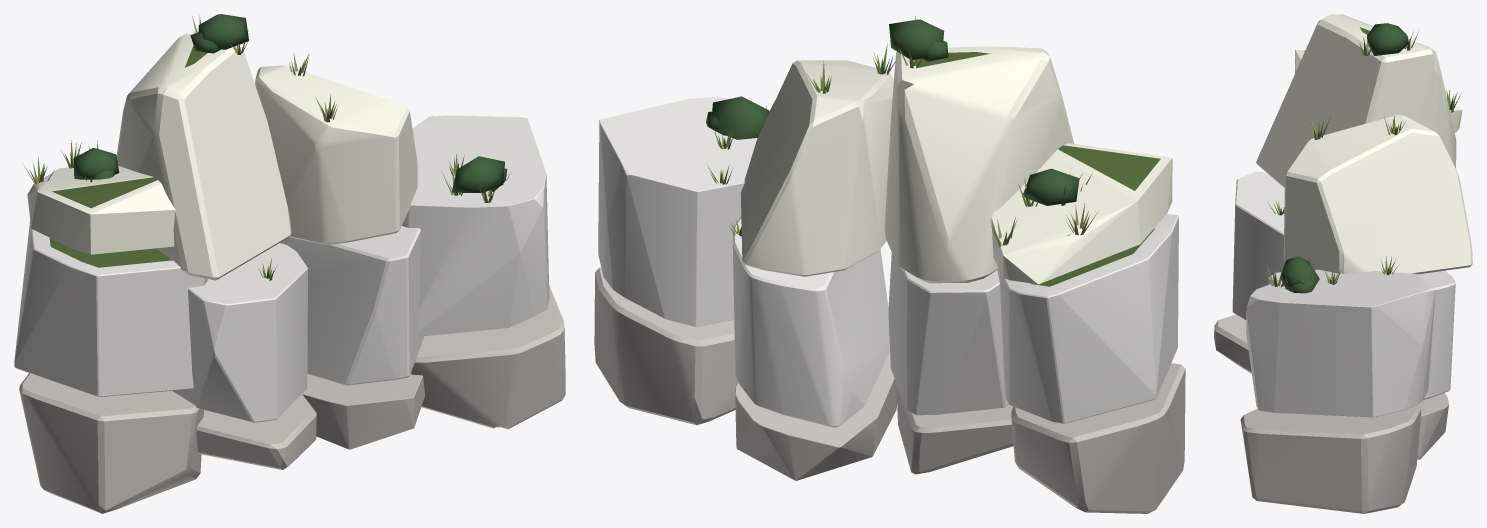
The model's file is rock_cliff.glb.
The picture shows the model from 3 angles, left to right: view 1: azimuth 30°, elevation 25°; view 2: azimuth 150°, elevation 25°; view 3: azimuth 270°, elevation 25°; orthographic projection. The views are drawn at different scales.
Parts seen in each view (by area): view 1: rock_cliff_body; view 2: rock_cliff_body; view 3: rock_cliff_body.
Boxes of the visible parts, bbox=[...] form: rock_cliff_body: bbox=[14, 14, 565, 513]; rock_cliff_body: bbox=[594, 16, 1185, 513]; rock_cliff_body: bbox=[1214, 14, 1472, 513].
Size of what is drawn, in the model's own units: 8.73 by 6.72 by 4.2.
